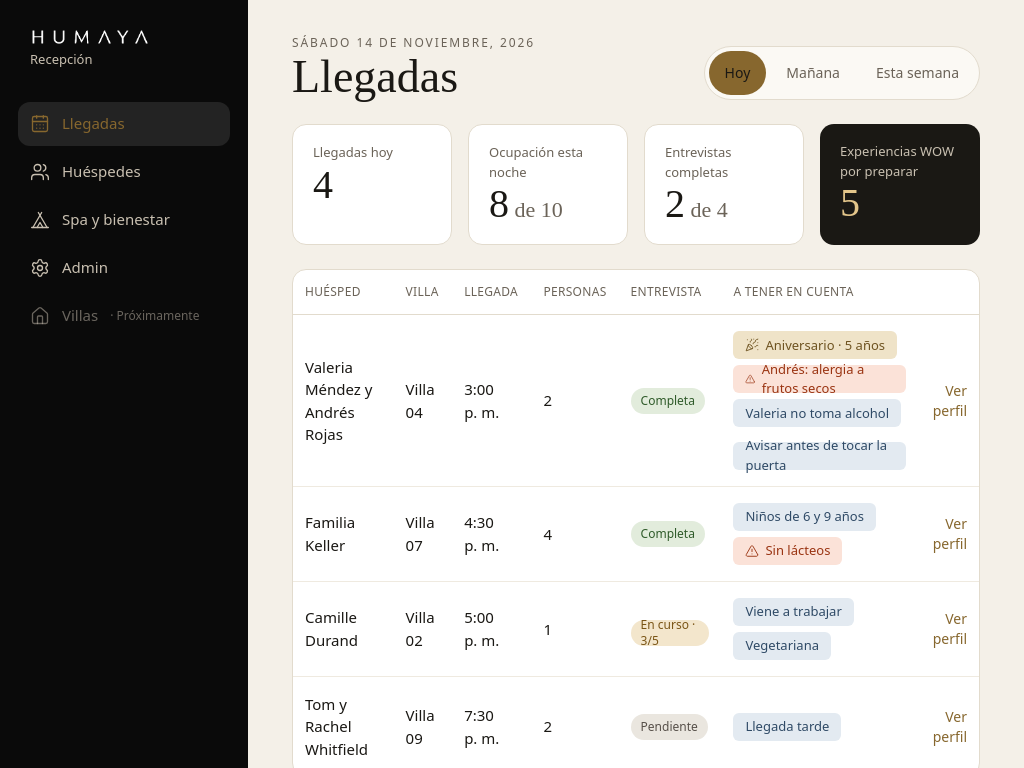
Test: filtro de período › cambiar a mañana cambia las filas
Click the radio button labelled "Mañana" at coordinates (813, 73), box [770,51,856,95]
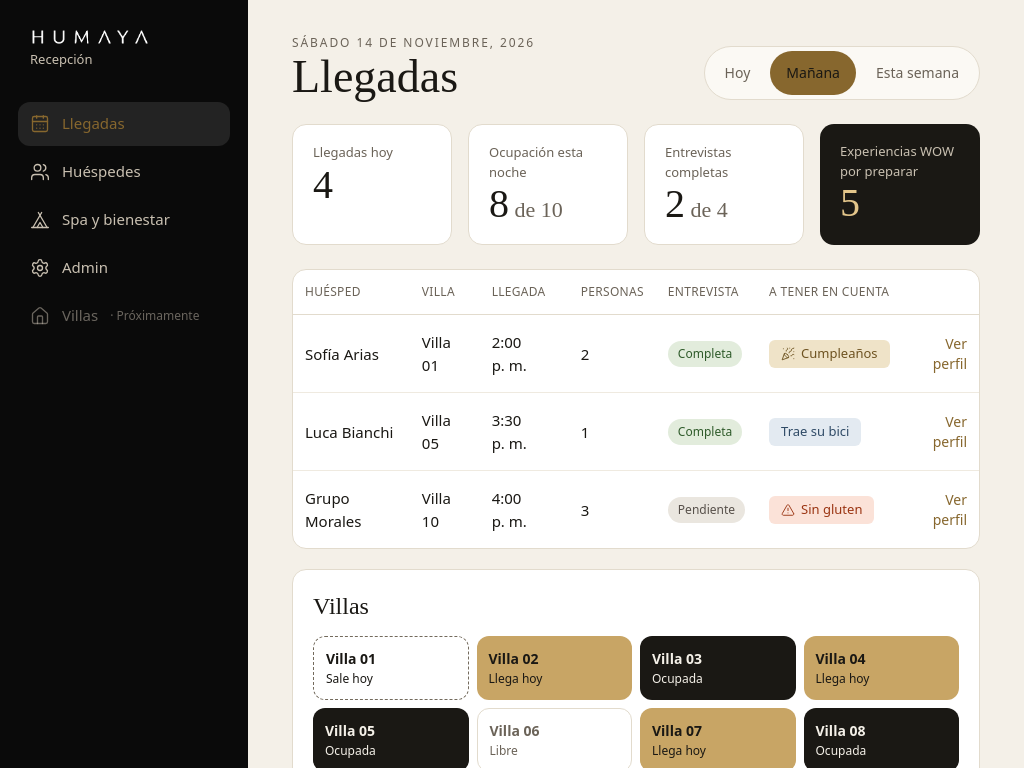
Now the text "Sofía Arias" is shown, box [305,344,379,364]
Now the text "Valeria Méndez y Andrés Rojas" is gone
